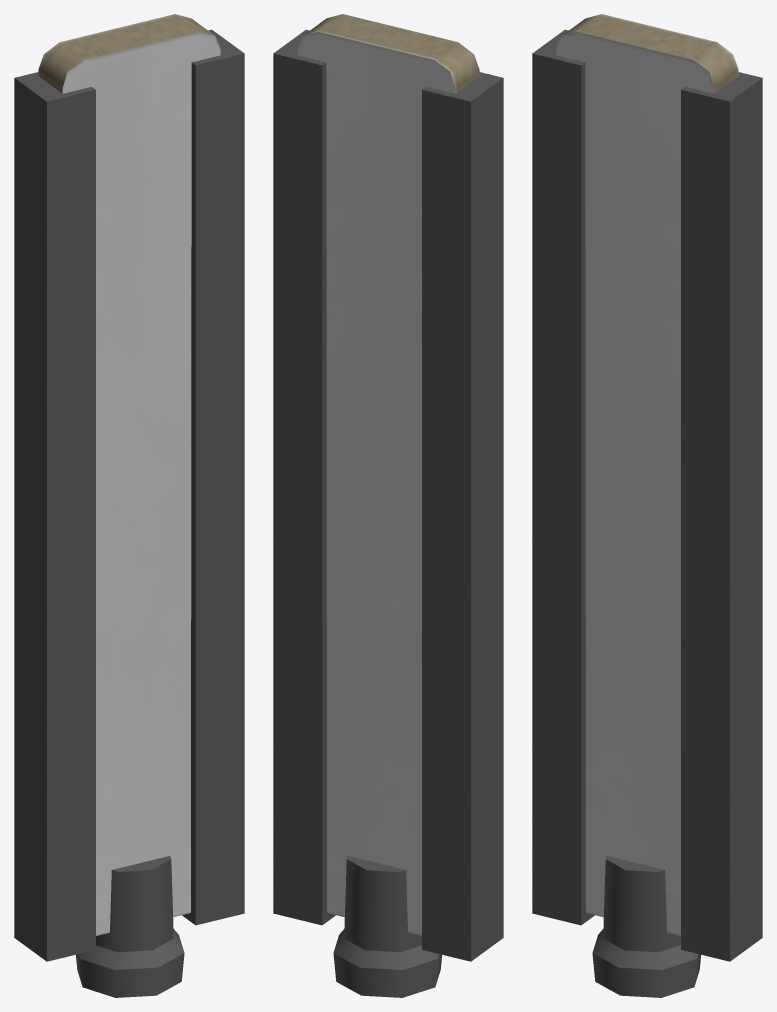
File: Pfb_WC_Board__2.fbx
3 views of the same model, side by side, from view 1: azimuth 30°, elevation 25°; view 2: azimuth 150°, elevation 25°; view 3: azimuth 330°, elevation 25° (orthographic).
Visible parts, largest first — view 1: MAT_WC_Board_White 2; view 2: MAT_WC_Board_White 2; view 3: MAT_WC_Board_White 2.
Part boxes in pixels (x1,y1,x2,y2): MAT_WC_Board_White 2: (14, 14, 244, 997); MAT_WC_Board_White 2: (273, 14, 503, 997); MAT_WC_Board_White 2: (532, 14, 762, 997).
Size of the model in its own units: 0.4374 by 1.99 by 0.2185.
Materials: 1 (1 with a texture image).
